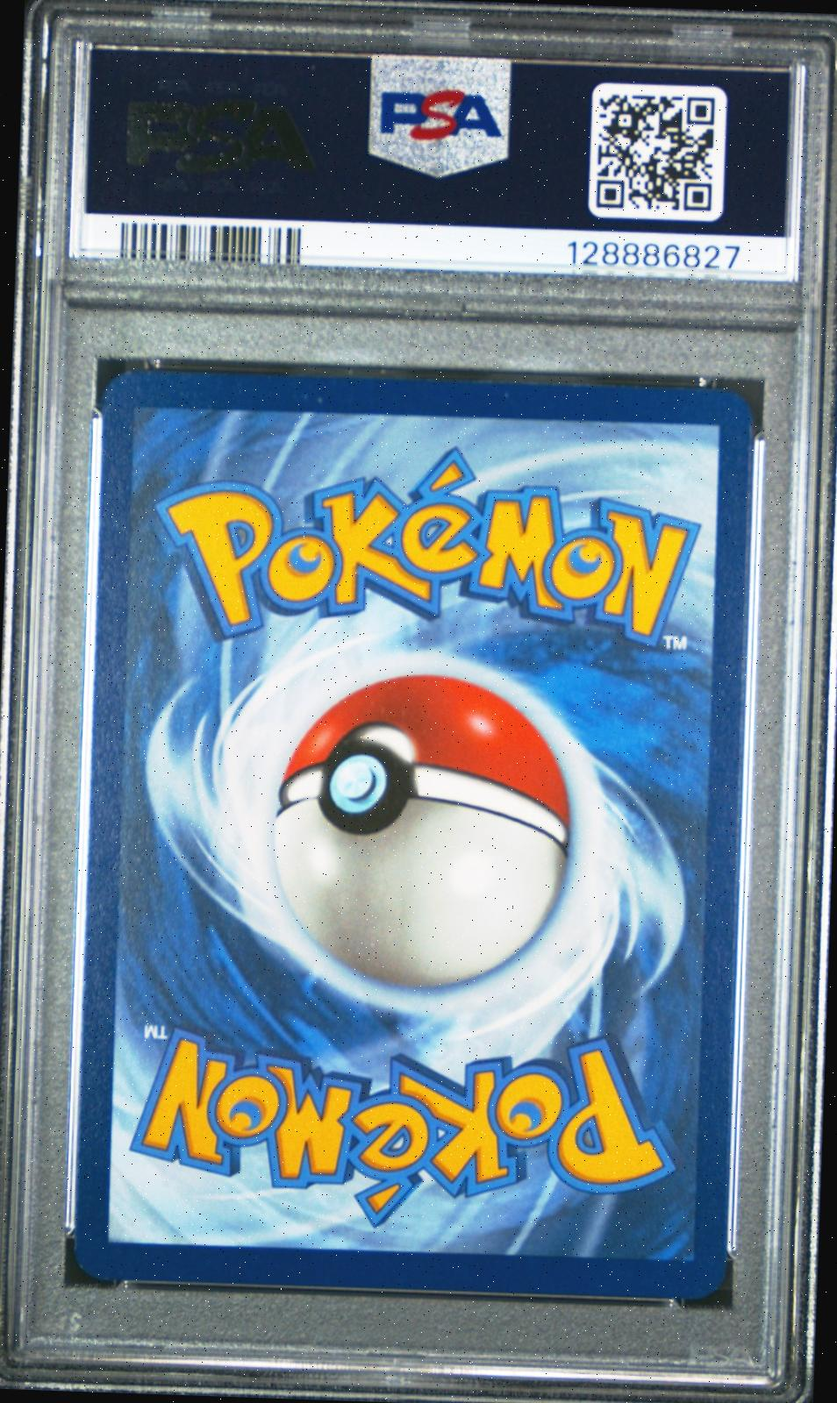card-2UtV: (72, 368, 755, 1301)
